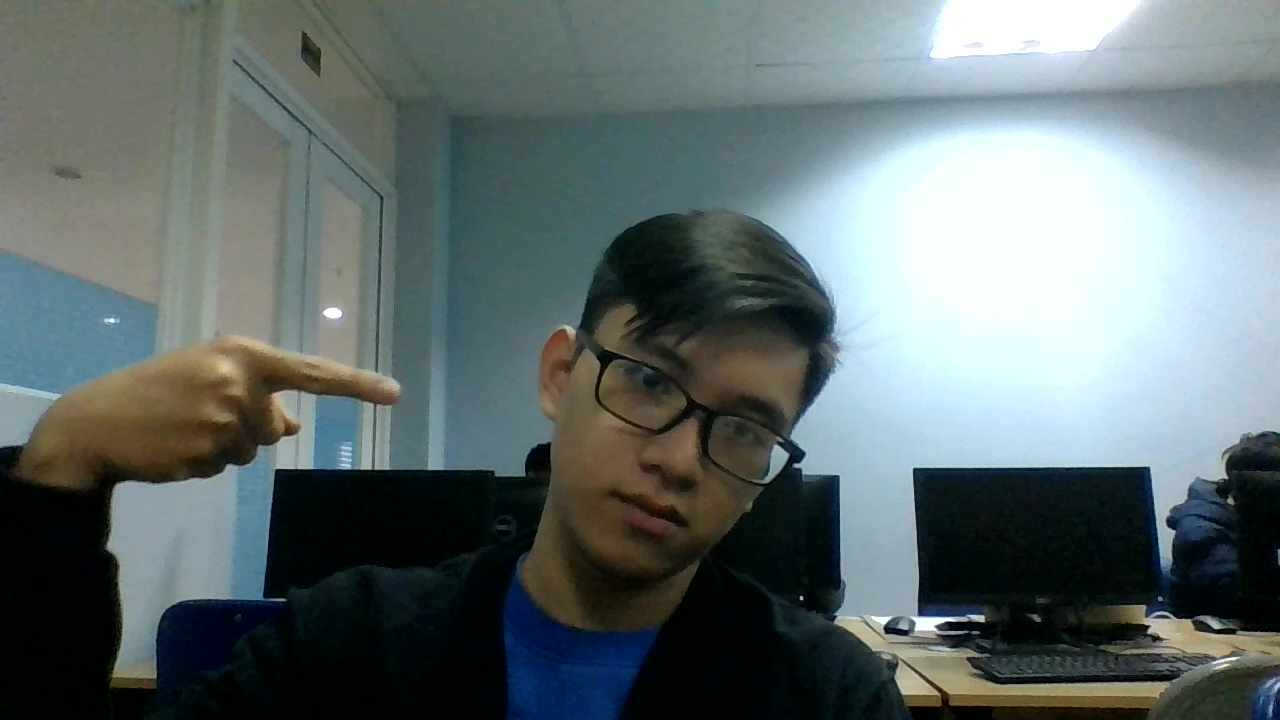left: (86, 325, 401, 484)
